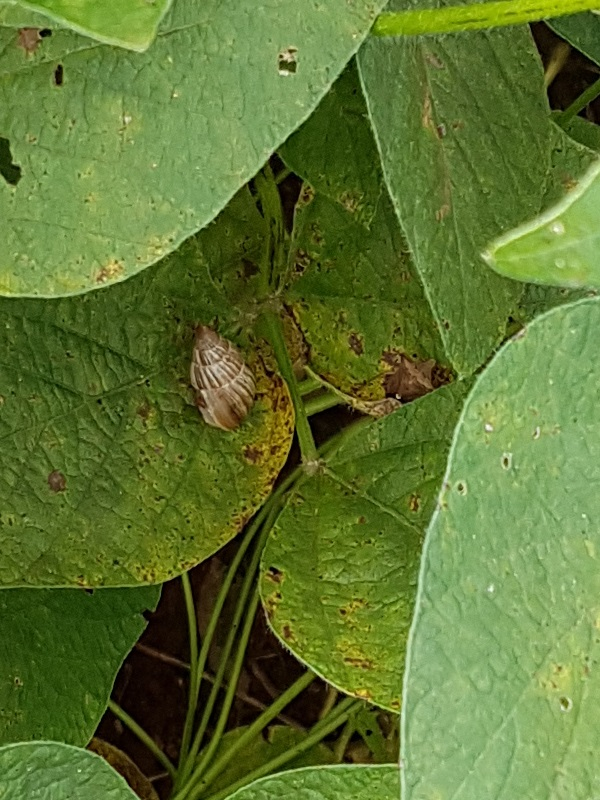Euschistus_heros_adulto: (363, 341, 452, 433)
Gastropoda: (164, 314, 277, 447)
